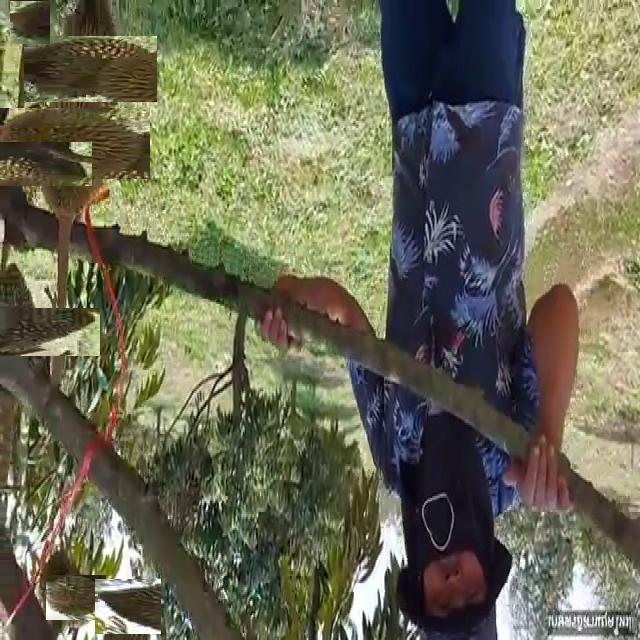durian: (16, 87, 130, 200), (40, 19, 140, 119), (0, 283, 75, 382), (0, 120, 70, 209), (97, 576, 158, 637), (50, 572, 103, 624), (9, 1, 52, 43)
